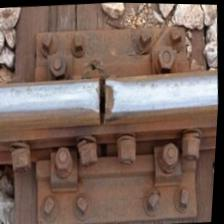person: (52, 51, 154, 148)
